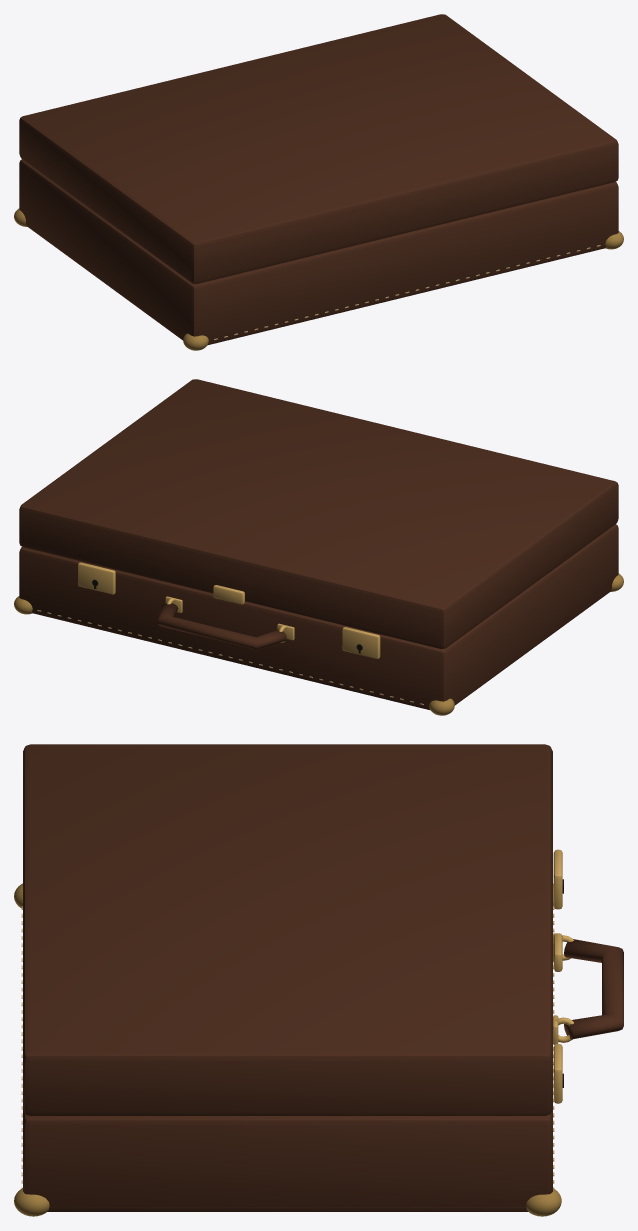
Rendered from briefcase.fbx.
3 renders of one model, top to bottom at view 1: azimuth 30°, elevation 25°; view 2: azimuth 150°, elevation 25°; view 3: azimuth 270°, elevation 25°, orthographic. The views are drawn at different scales.
Parts seen in each view (by area): view 1: Lid, briefcase; view 2: Lid, briefcase; view 3: Lid, briefcase.
Boxes of the visible parts, x1,y1,x2,y2 form: Lid: [19, 14, 618, 283]; briefcase: [14, 159, 623, 350]; Lid: [19, 379, 618, 648]; briefcase: [14, 524, 623, 715]; Lid: [23, 744, 562, 1115]; briefcase: [14, 849, 623, 1216].
Bounding box in the file's own units: 0.43 × 0.103 × 0.3452.
